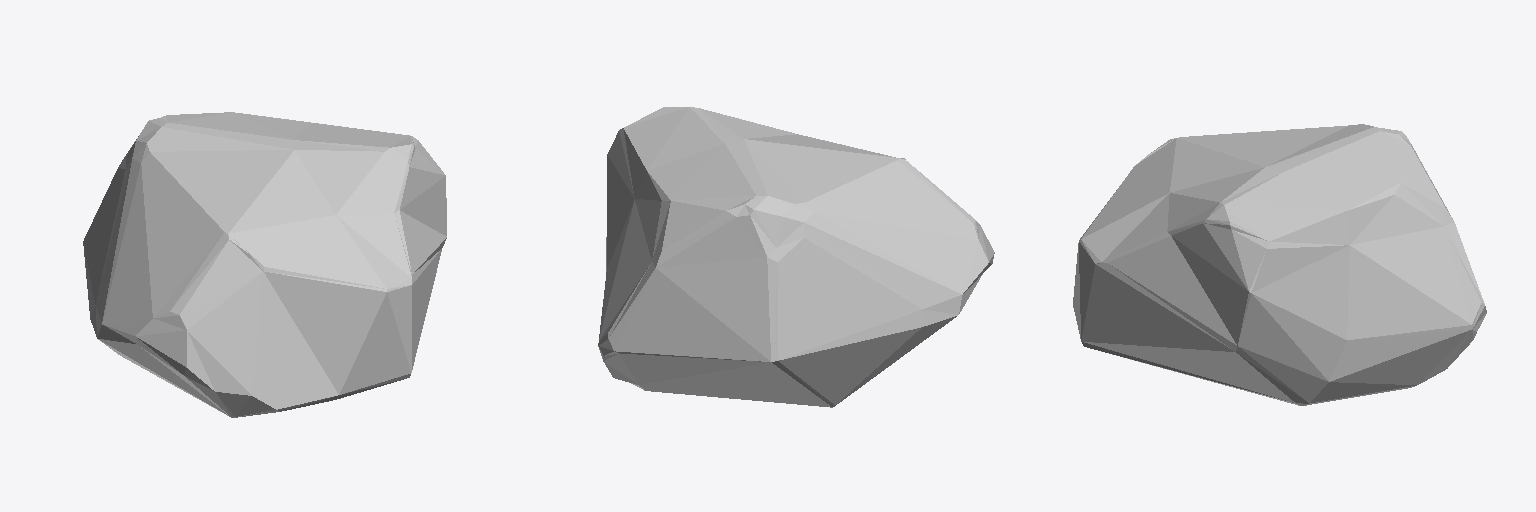
The model's file is rock_1_001.obj.
3 renders of one model, left to right at view 1: azimuth 30°, elevation 25°; view 2: azimuth 150°, elevation 25°; view 3: azimuth 270°, elevation 25°, orthographic.
Parts seen in each view (by area): view 1: rock_1_Plane.009; view 2: rock_1_Plane.009; view 3: rock_1_Plane.009.
Boxes of the visible parts, x1=… form: rock_1_Plane.009: x1=83, y1=112, x2=446, y2=417; rock_1_Plane.009: x1=598, y1=107, x2=994, y2=407; rock_1_Plane.009: x1=1073, y1=124, x2=1486, y2=405.
Bounding box in the file's own units: 1.65 × 0.9545 × 1.69.